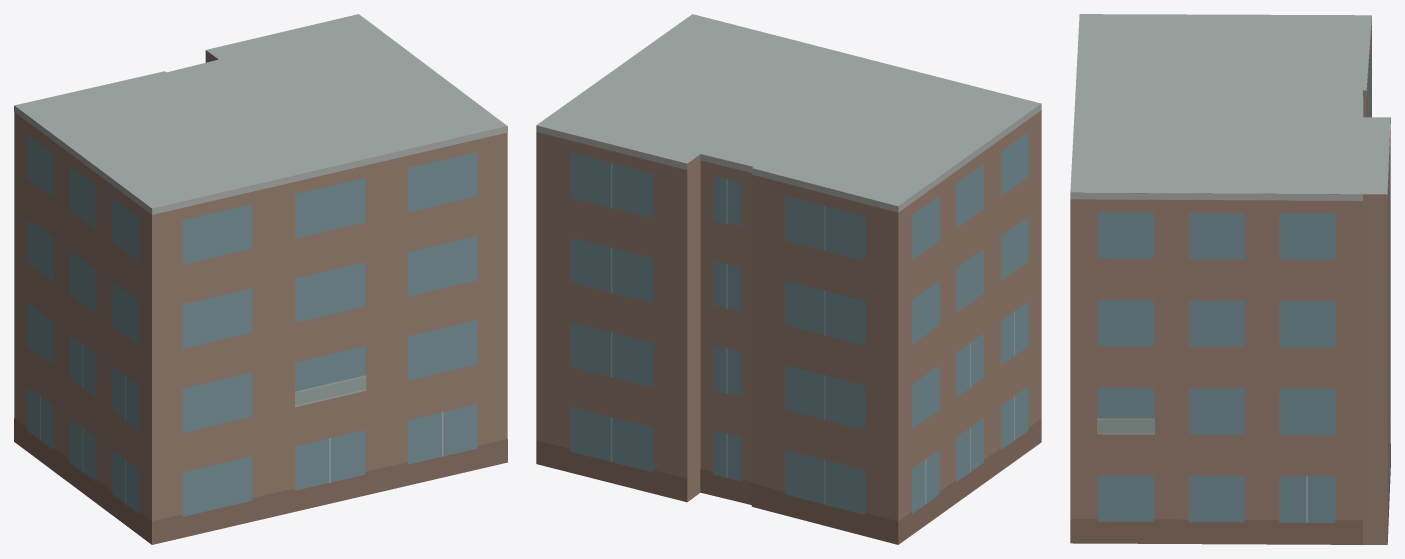
Rendered from survey-upis-32911141.glb.
The picture shows the model from 3 angles, left to right: view 1: azimuth 30°, elevation 25°; view 2: azimuth 150°, elevation 25°; view 3: azimuth 270°, elevation 25°; orthographic projection. The views are drawn at different scales.
Parts seen in each view (by area): view 1: survey-upis-32911141.tmp; view 2: survey-upis-32911141.tmp; view 3: survey-upis-32911141.tmp.
Part boxes in pixels (x1=…): survey-upis-32911141.tmp: x1=14, y1=14, x2=507, y2=544; survey-upis-32911141.tmp: x1=536, y1=14, x2=1041, y2=544; survey-upis-32911141.tmp: x1=1070, y1=14, x2=1390, y2=544.
Size of the model in its own units: 14.23 by 12.9 by 10.69.
